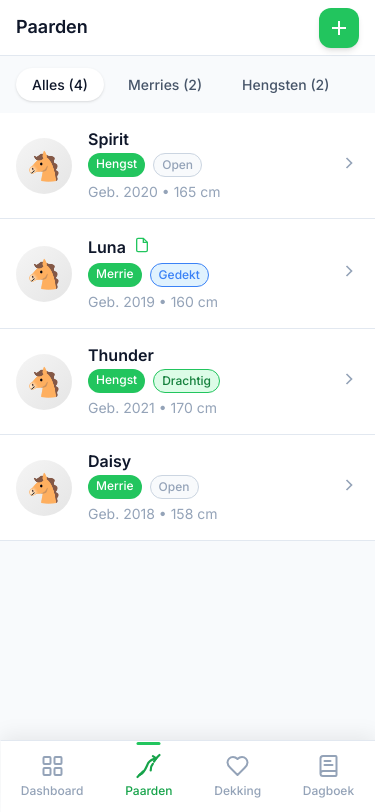
Test case: Horses Overview Page › Navigation › should navigate to add horse page when clicking + button
Click the link with class "header__action-btn" at (339, 28), box top-left (319, 8), bottom-right (359, 48)
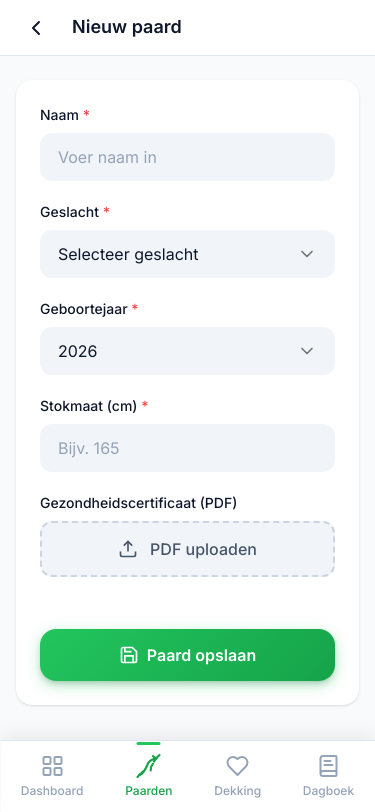
Expected: the heading "Nieuw paard" is shown, top-left (72, 16), bottom-right (182, 39)
